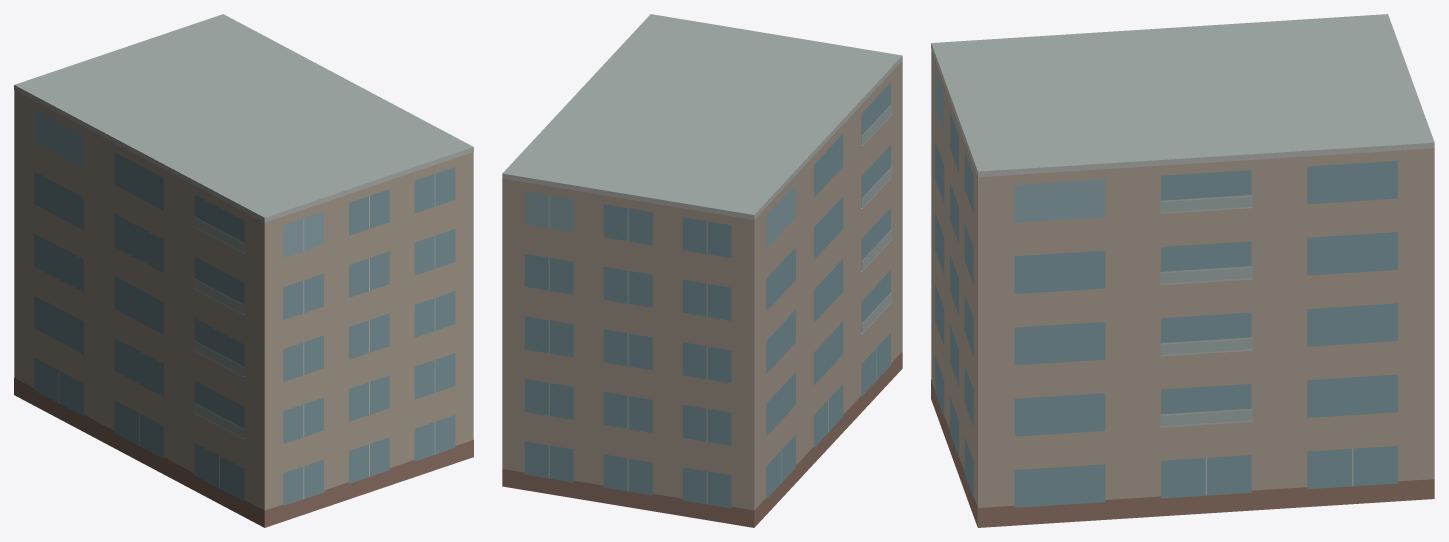
The model's file is survey-upis-32763829.glb.
3 renders of one model, left to right at view 1: azimuth 30°, elevation 25°; view 2: azimuth 150°, elevation 25°; view 3: azimuth 270°, elevation 25°, orthographic. The views are drawn at different scales.
Parts seen in each view (by area): view 1: survey-upis-32763829.tmp; view 2: survey-upis-32763829.tmp; view 3: survey-upis-32763829.tmp.
Part boxes in pixels (x1,y1,x2,y2): survey-upis-32763829.tmp: (14, 14, 473, 527); survey-upis-32763829.tmp: (502, 14, 902, 527); survey-upis-32763829.tmp: (931, 14, 1434, 527).
Size of the model in its own units: 14.48 by 15.25 by 19.54.
